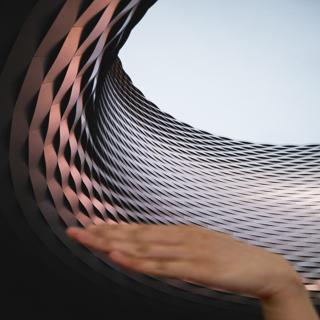WAIT: (62, 210, 283, 299)
